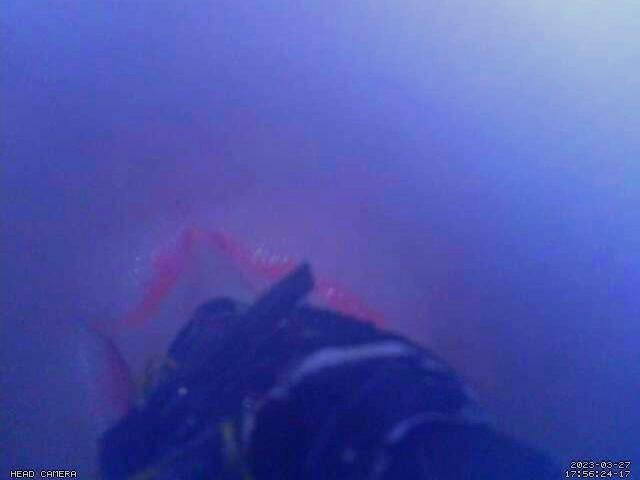head: (88, 223, 385, 419)
